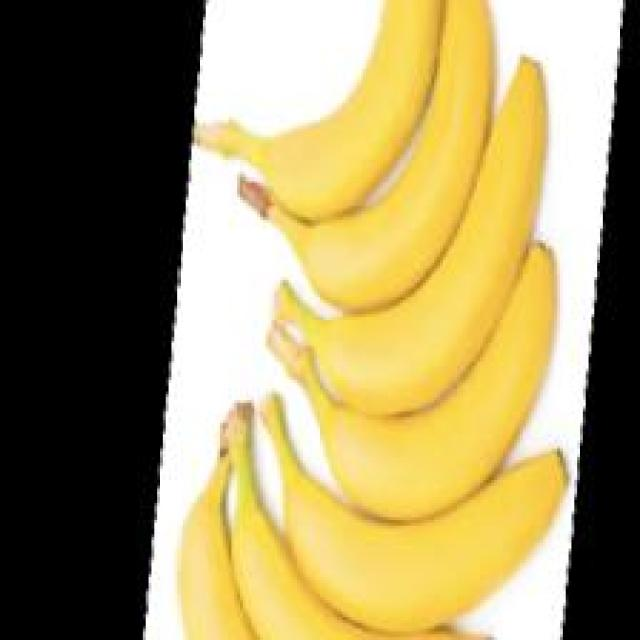banana: (190, 0, 588, 640), (251, 62, 532, 620)
